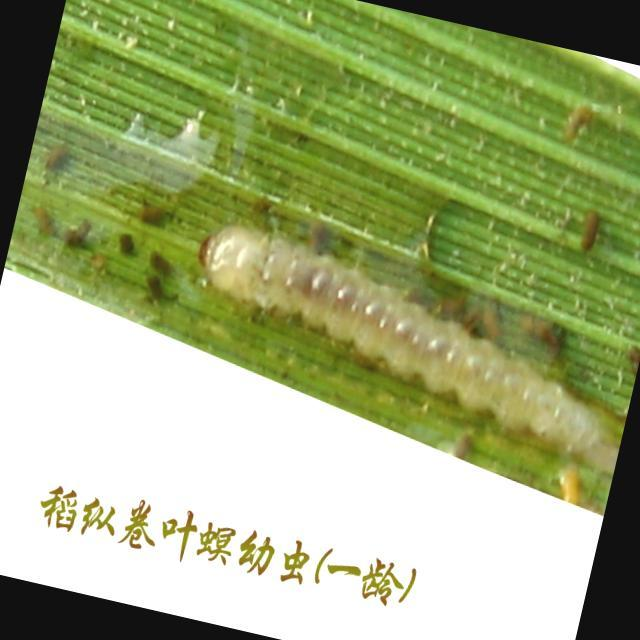leaf folder: (199, 226, 617, 475)
